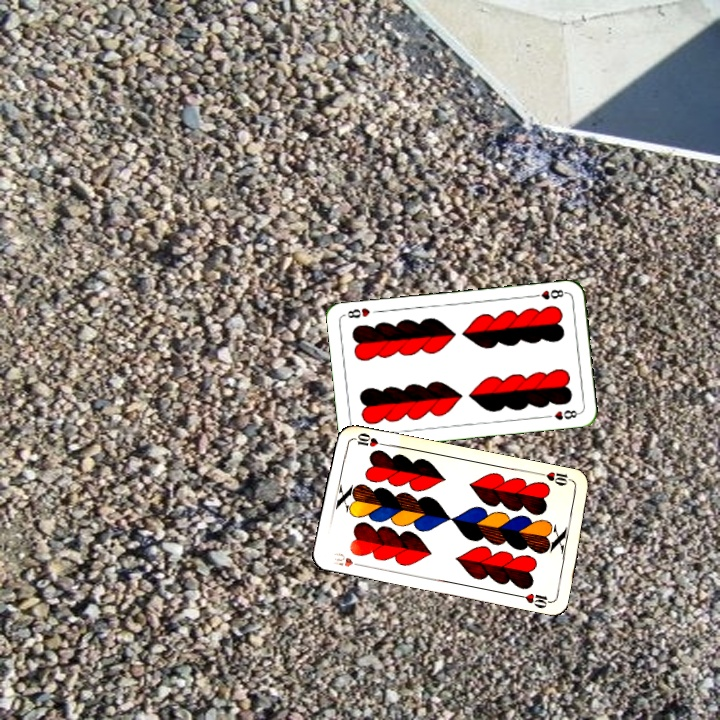H10: (535, 467, 576, 488), (329, 549, 367, 569)
H8: (528, 285, 569, 302)
